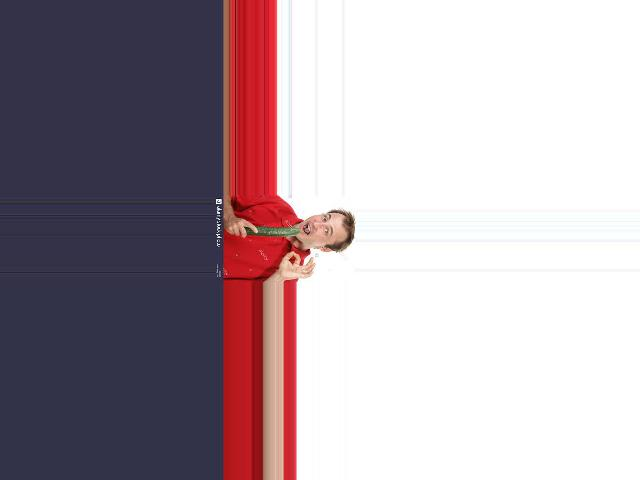cucumber: (245, 227, 300, 235)
